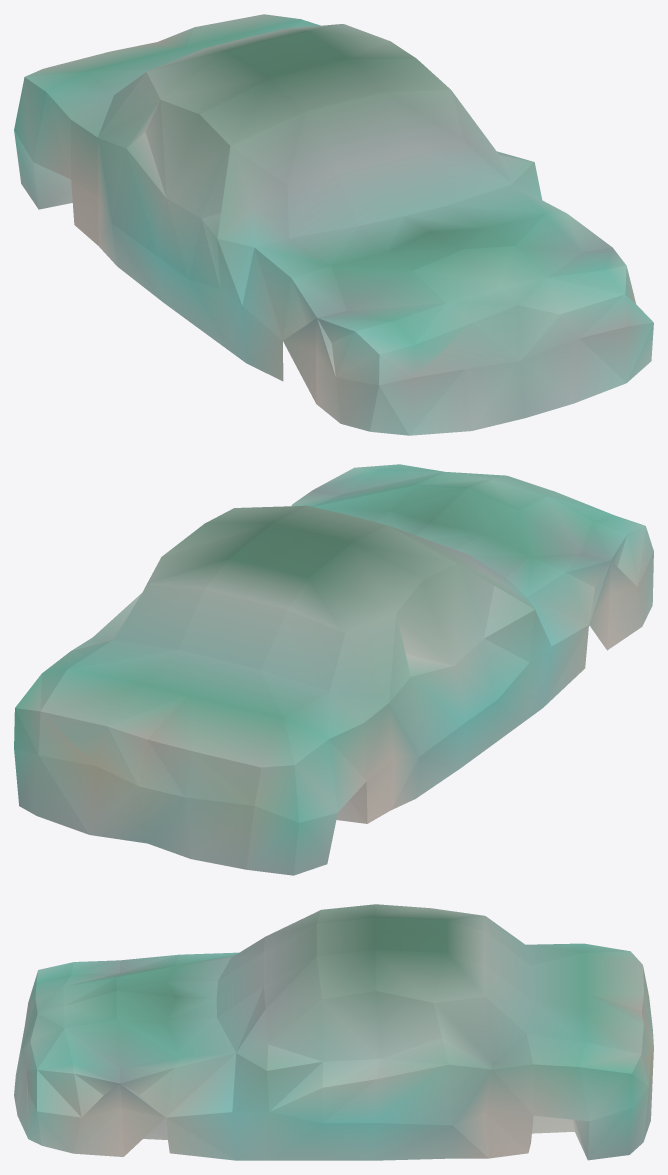
The model's file is fast-74-world-lod.glb.
The picture shows the model from 3 angles, top to bottom: view 1: azimuth 30°, elevation 25°; view 2: azimuth 150°, elevation 25°; view 3: azimuth 270°, elevation 25°; orthographic projection. The views are drawn at different scales.
Parts seen in each view (by area): view 1: MeshyFast74WorldLOD; view 2: MeshyFast74WorldLOD; view 3: MeshyFast74WorldLOD.
Part boxes in pixels (x1=…): MeshyFast74WorldLOD: x1=14, y1=14, x2=653, y2=435; MeshyFast74WorldLOD: x1=14, y1=464, x2=653, y2=875; MeshyFast74WorldLOD: x1=14, y1=904, x2=653, y2=1160.
Size of the model in its own units: 2.27 by 1.46 by 4.72.
